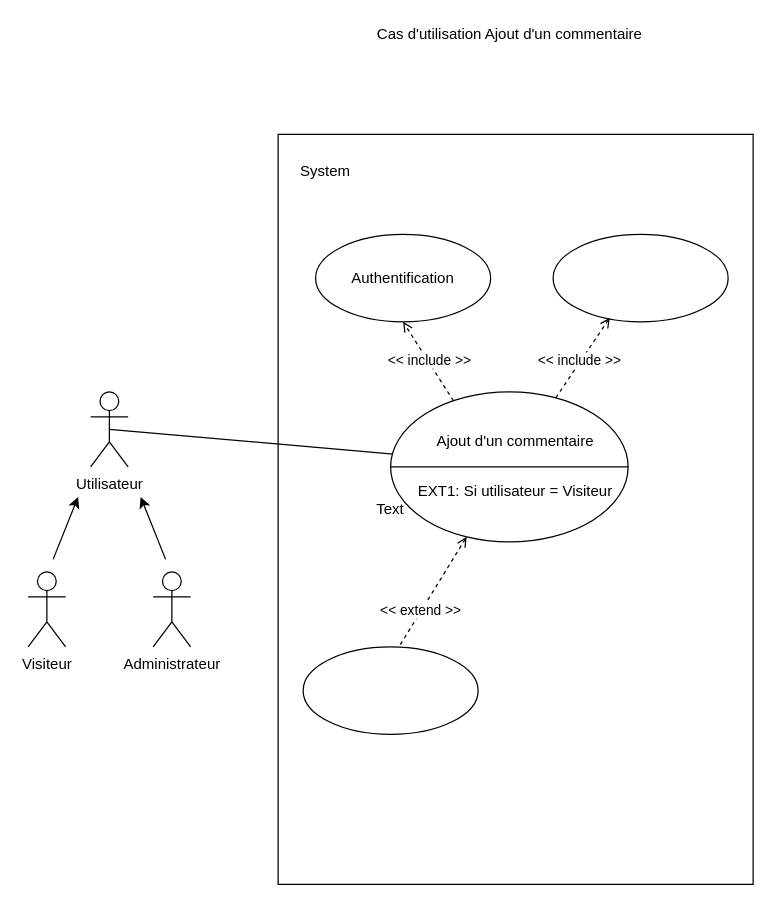
This 775x906 diagram has some shape labels left out. Each missing label, with the centre of its shape:
Envoyer formulaire commentaire: the point at 640,277
Validation par l'administrateur: the point at 390,690
